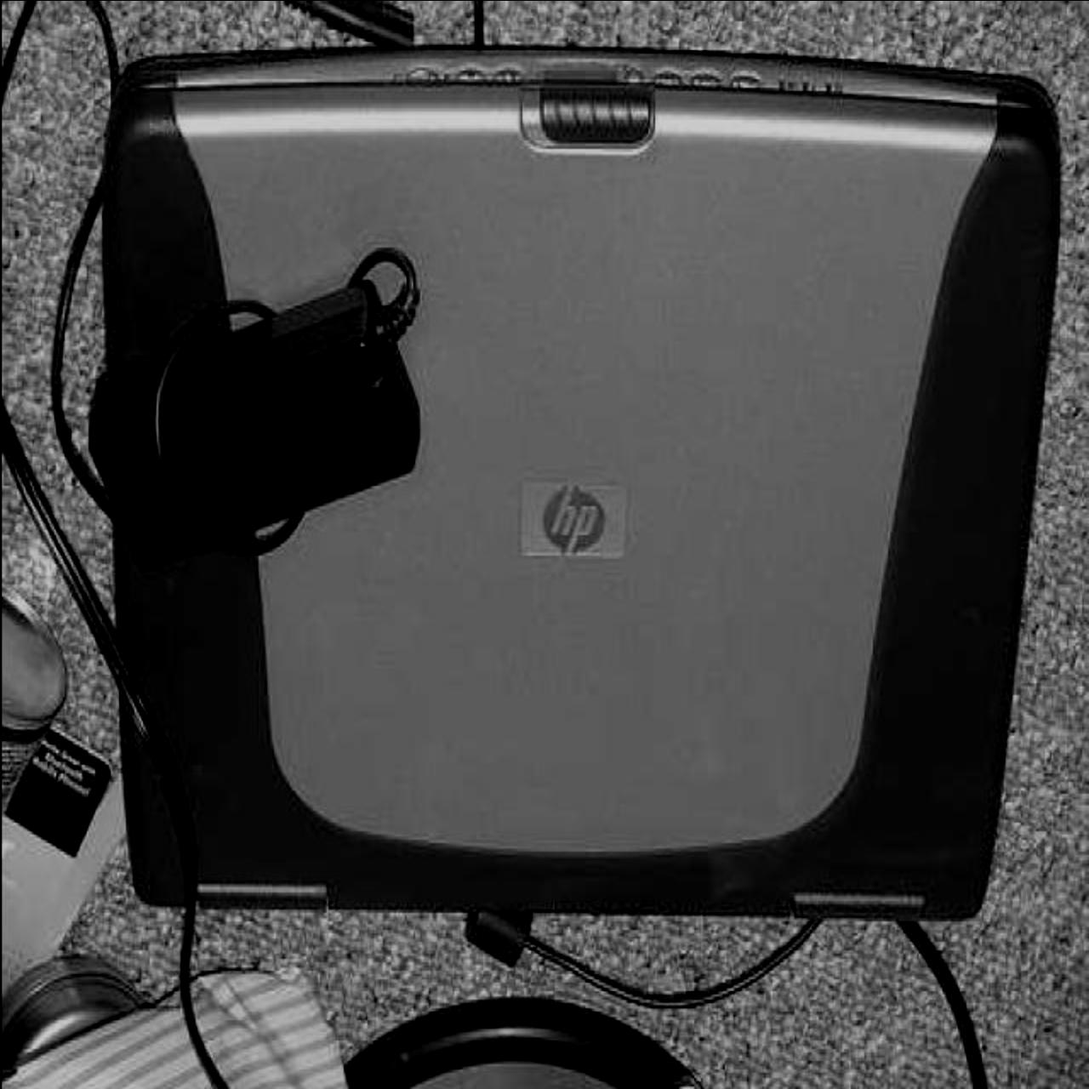laptop: (100, 53, 1030, 927)
